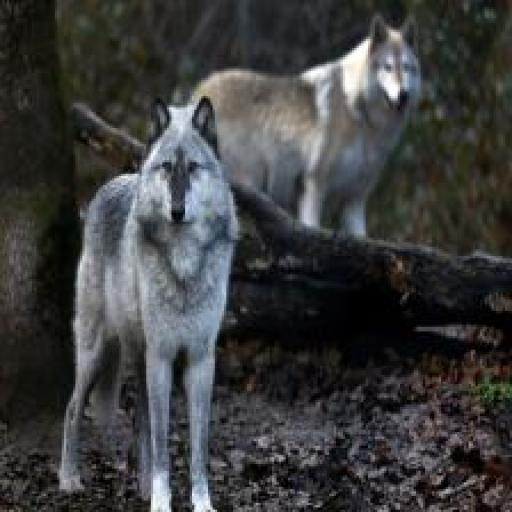wolf: (48, 89, 240, 512), (199, 0, 458, 245)
